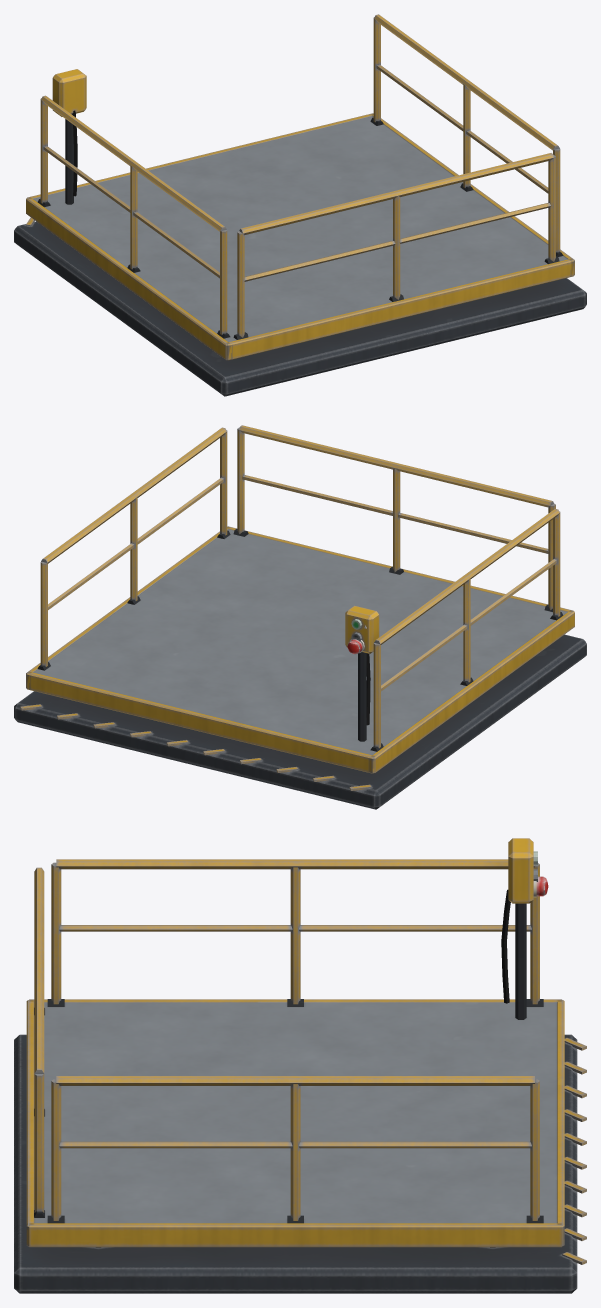
File: plataforma_elevacion.fbx
3 views of the same model, one above another, from view 1: azimuth 30°, elevation 25°; view 2: azimuth 150°, elevation 25°; view 3: azimuth 270°, elevation 25° (orthographic). The views are drawn at different scales.
Visible parts, largest first — view 1: plataforma_elevacion_plataforma, plataforma_elevacion, plataforma_elevacion_barandilla_tras, plataforma_elevacion_barandilla_izq, plataforma_elevacion_barandilla_der; view 2: plataforma_elevacion_plataforma, plataforma_elevacion, plataforma_elevacion_barandilla_tras, plataforma_elevacion_barandilla_der, plataforma_elevacion_barandilla_izq; view 3: plataforma_elevacion_plataforma, plataforma_elevacion, plataforma_elevacion_barandilla_der, plataforma_elevacion_barandilla_izq, plataforma_elevacion_barandilla_tras.
Part boxes in pixels (x1,y1,x2,y2): plataforma_elevacion_plataforma: (26,69,574,360); plataforma_elevacion: (14,217,586,396); plataforma_elevacion_barandilla_tras: (233,153,559,339); plataforma_elevacion_barandilla_izq: (37,95,230,338); plataforma_elevacion_barandilla_der: (370,14,563,256); plataforma_elevacion_plataforma: (26,526,574,773); plataforma_elevacion: (14,634,586,809); plataforma_elevacion_barandilla_tras: (233,425,555,611); plataforma_elevacion_barandilla_der: (37,427,230,670); plataforma_elevacion_barandilla_izq: (370,508,563,751); plataforma_elevacion_plataforma: (26,838,564,1247); plataforma_elevacion: (14,1034,586,1293); plataforma_elevacion_barandilla_der: (47,1076,543,1223); plataforma_elevacion_barandilla_izq: (47,859,543,1006); plataforma_elevacion_barandilla_tras: (34,867,44,1217).
Bounding box in the file's own units: 4 × 1.85 × 4.07.
1 material, 1 textured.
